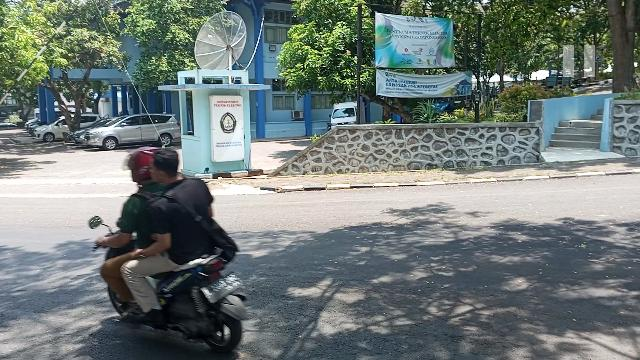helm: (126, 148, 152, 183)
motor: (107, 247, 250, 354)
non-helm: (152, 150, 180, 182)
